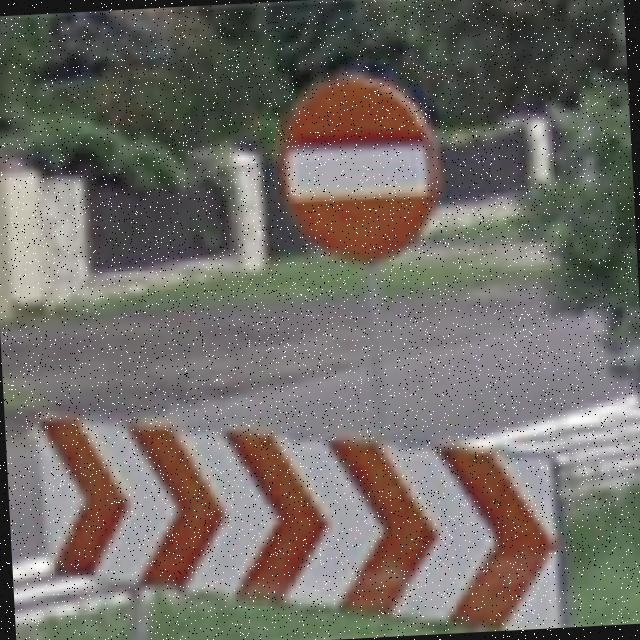Zakaz wjazdu: (276, 68, 446, 269)
